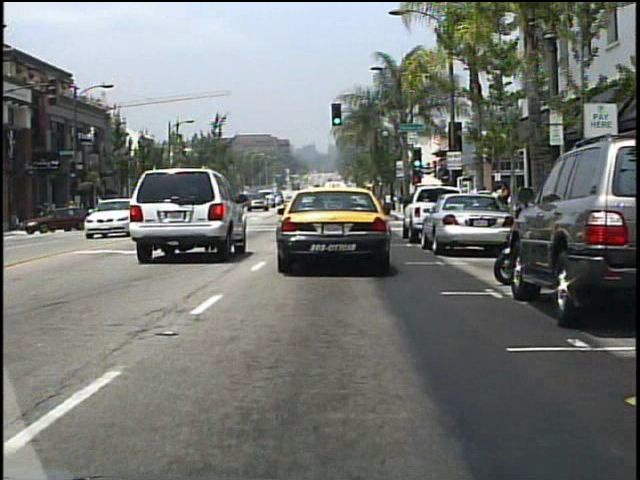person: (493, 182, 512, 230)
